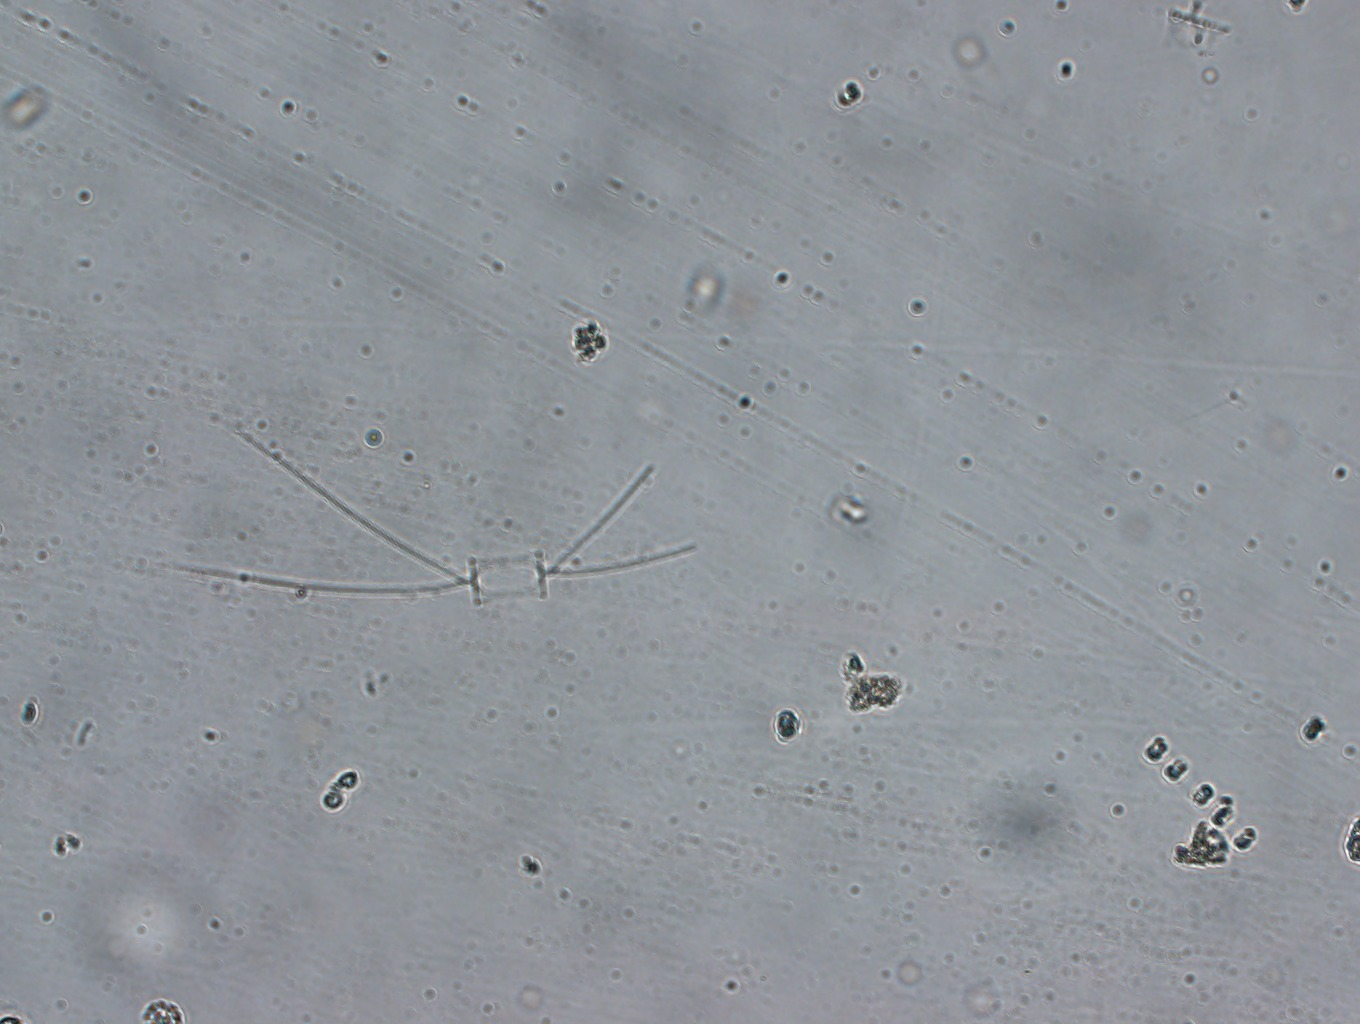chaetoceros: (164, 399, 705, 618)
skeletonema: (1135, 733, 1261, 856)
